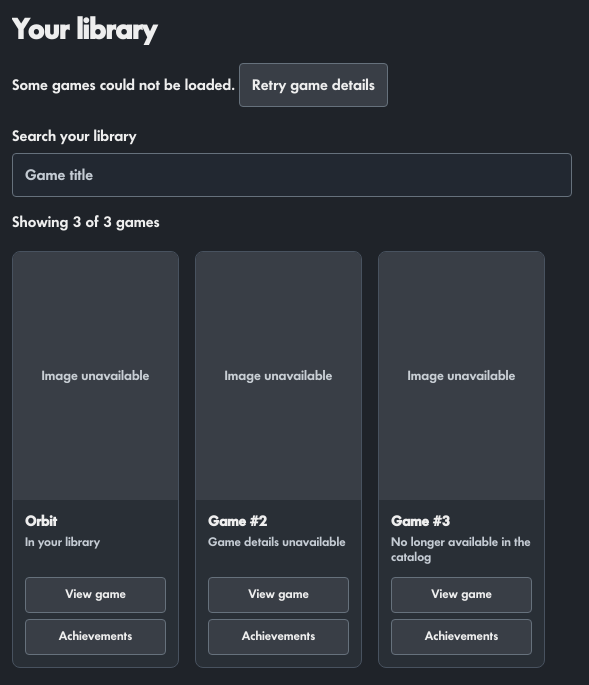
Test: retries only failed details while preserving good cards and unavailable-game placeholders
Expected: the text "No longer available in the catalog" is shown, [391,535,532,565]
Click the button "Retry game details" at (314, 85), box [239,63,388,107]
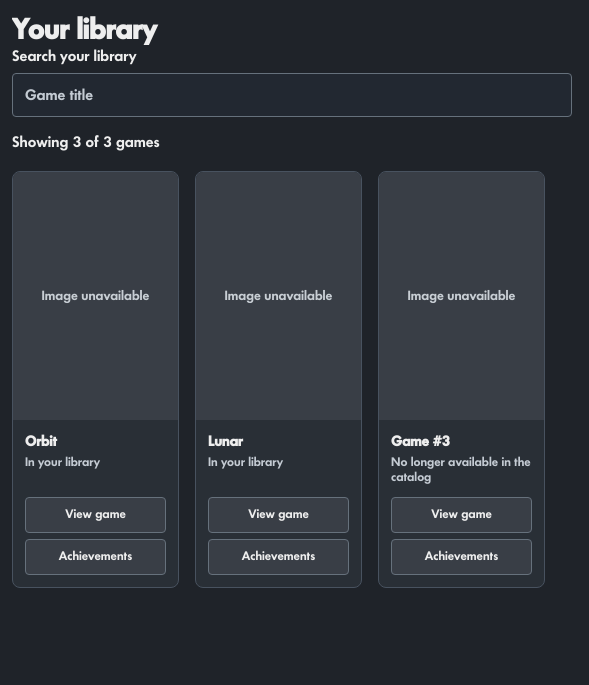
Now the element "Lunar" is shown, box [195,171,362,588]
Now the button "Retry game details" is gone
